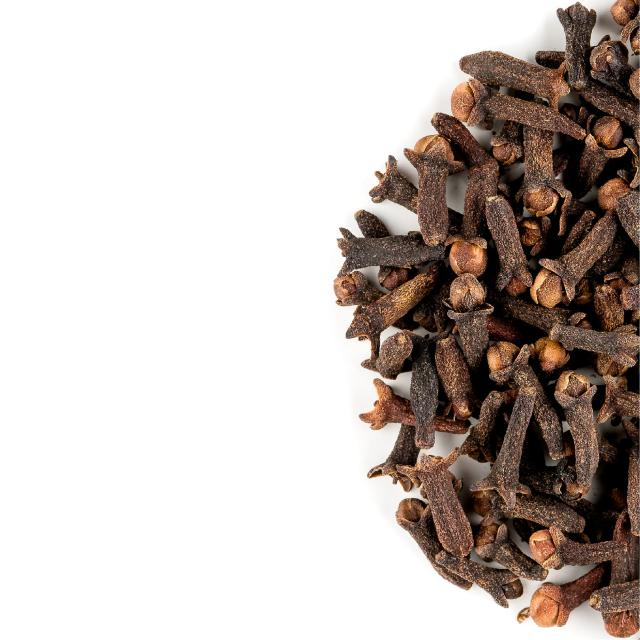clove: (334, 0, 640, 636)
